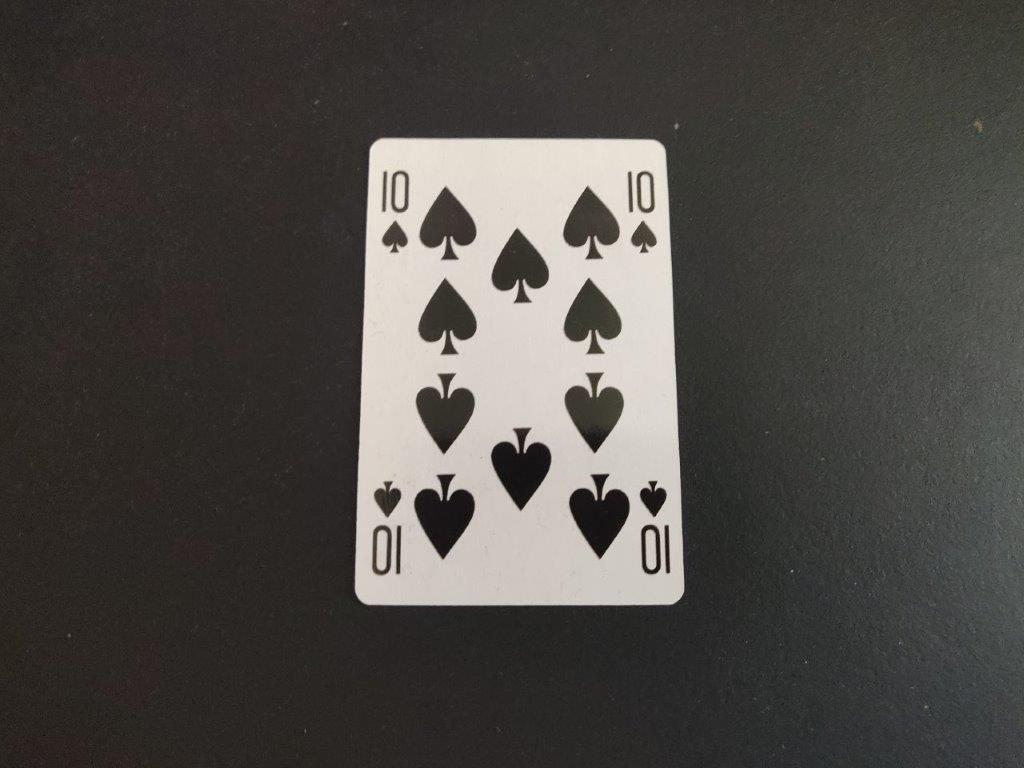10S: (621, 166, 665, 260), (377, 162, 415, 259)
